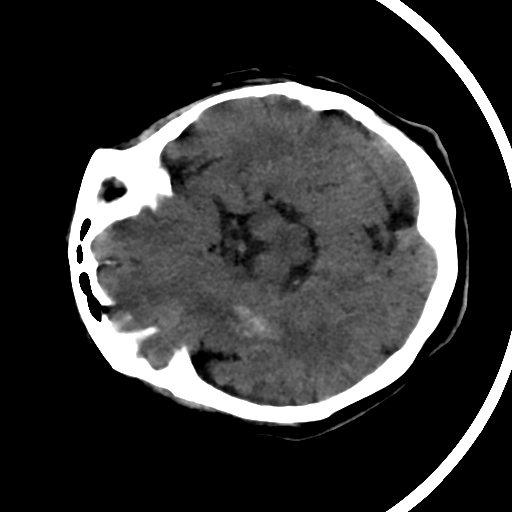a: (200, 284, 306, 362)
